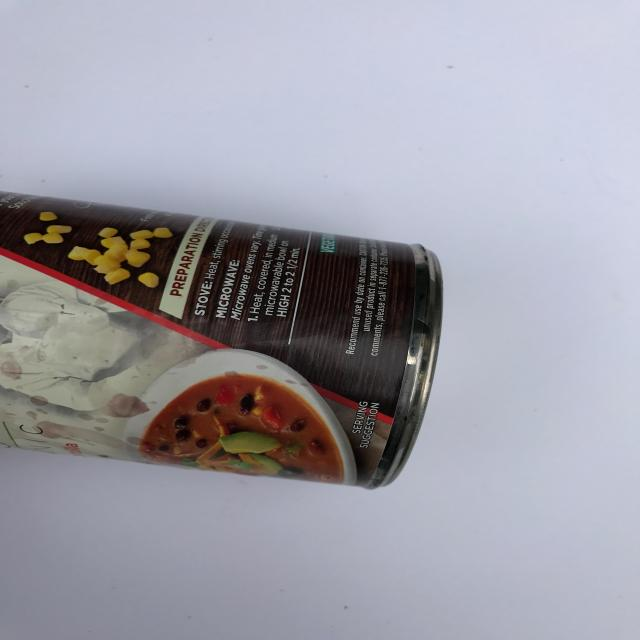metal: (1, 190, 444, 490)
